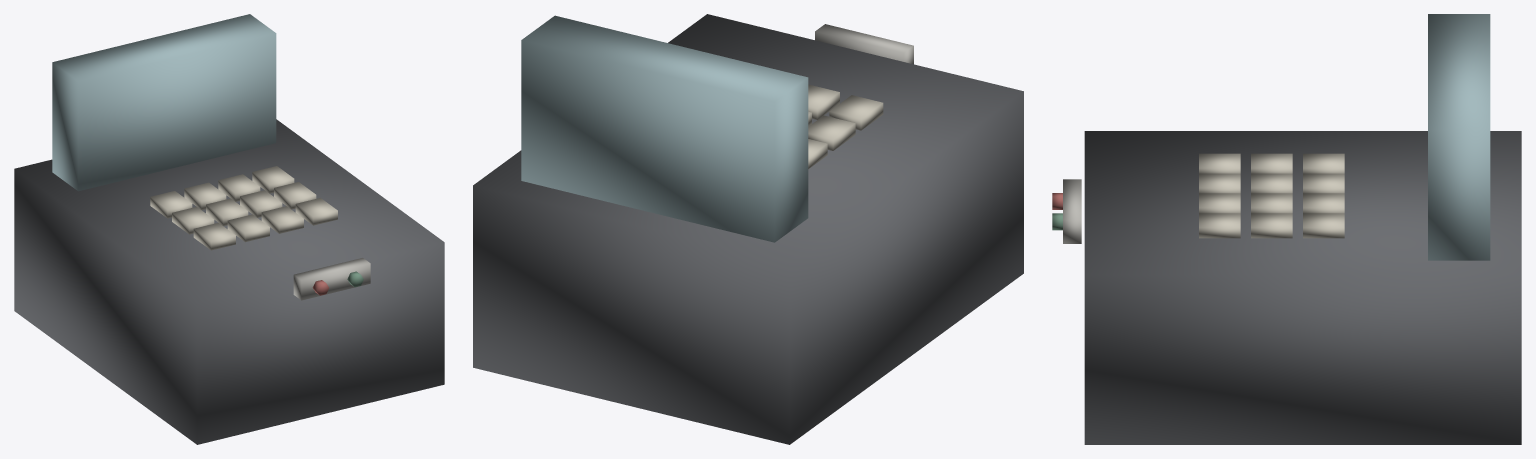
The model's file is cash_register__deep.glb.
The picture shows the model from 3 angles, left to right: view 1: azimuth 30°, elevation 25°; view 2: azimuth 150°, elevation 25°; view 3: azimuth 270°, elevation 25°; orthographic projection. The views are drawn at different scales.
Parts seen in each view (by area): view 1: world; view 2: world; view 3: world.
Part boxes in pixels (x1=…): world: x1=14, y1=14, x2=444, y2=444; world: x1=473, y1=14, x2=1023, y2=444; world: x1=1052, y1=14, x2=1521, y2=444.
Size of the model in its own units: 0.4 by 0.39 by 0.5502.
